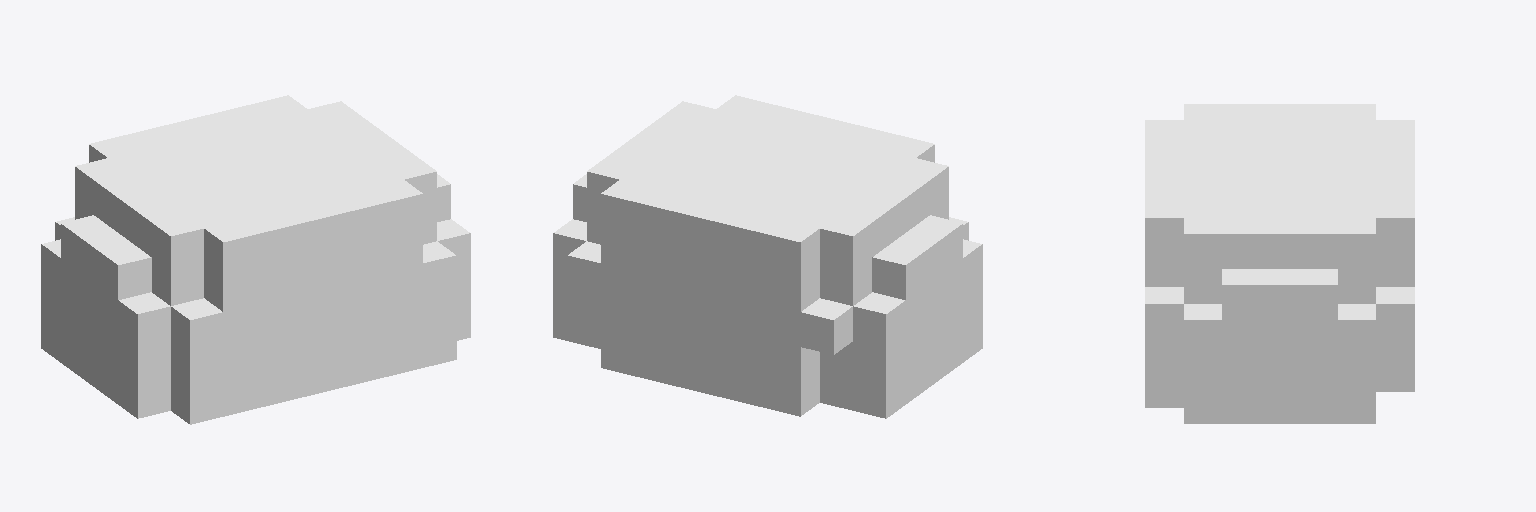
The model's file is pants.obj.
3 renders of one model, left to right at view 1: azimuth 30°, elevation 25°; view 2: azimuth 150°, elevation 25°; view 3: azimuth 270°, elevation 25°, orthographic.
Parts seen in each view (by area): view 1: object 1; view 2: object 1; view 3: object 1.
Part boxes in pixels (x1,y1,x2,y2): object 1: (41,95,470,424); object 1: (553,95,982,418); object 1: (1145,104,1414,423).
Size of the model in its own units: 1 by 0.5 by 0.7.